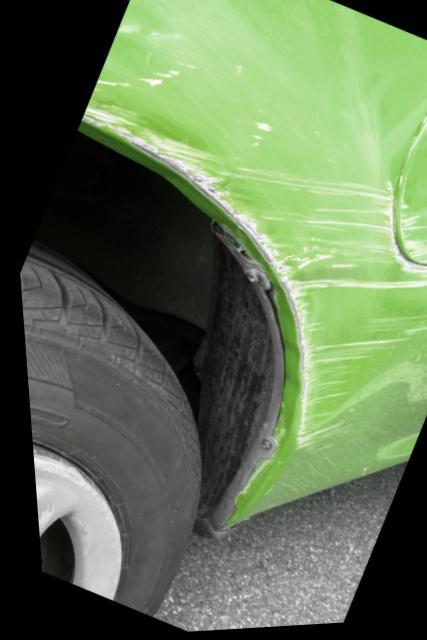scratch: (77, 66, 427, 455), (390, 121, 427, 266)
